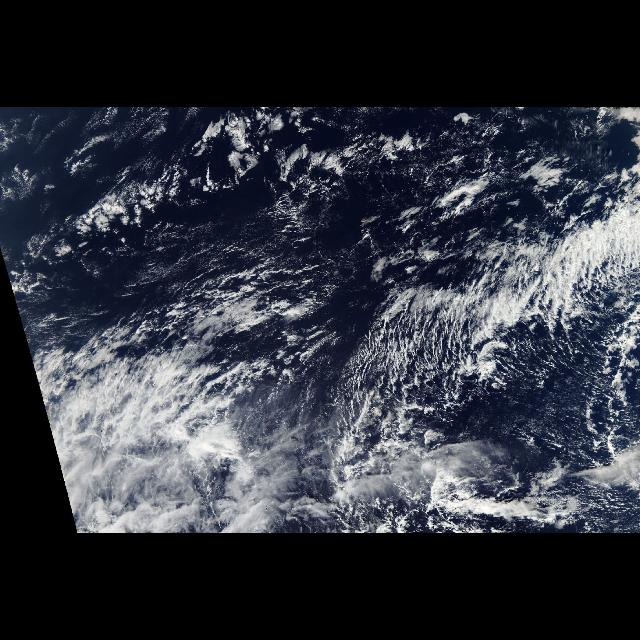Fish: (412, 206, 640, 390)
Sugar: (132, 158, 484, 308)
